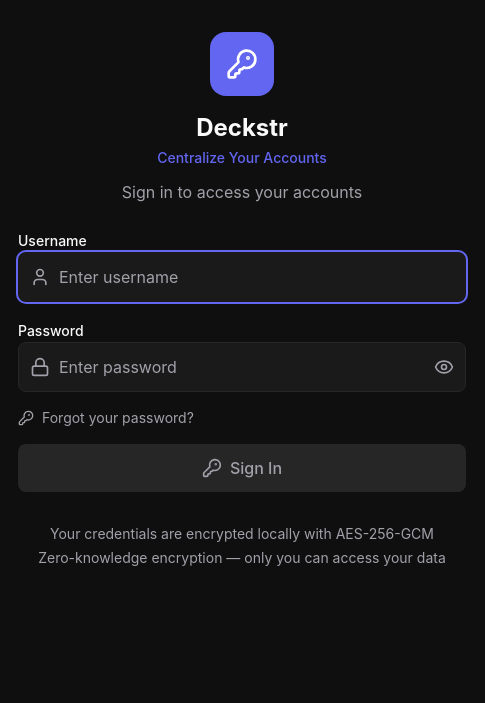
Test case: UnlockScreen — recovery mode › toggles into recovery mode when the "Forgot your password?" link is clicked
Click the button "Forgot your password?" at (106, 418), box top-left (18, 408), bottom-right (194, 428)
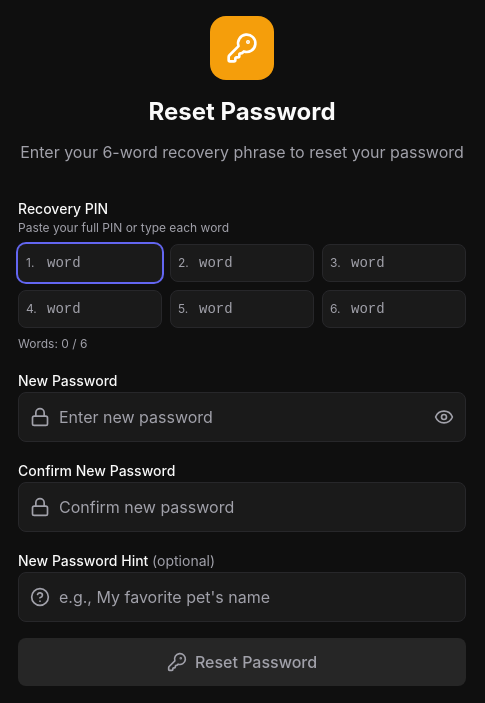
Expected: the text "Enter your 6-word recovery phrase to reset your password" is shown, top-left (18, 140), bottom-right (466, 164)
